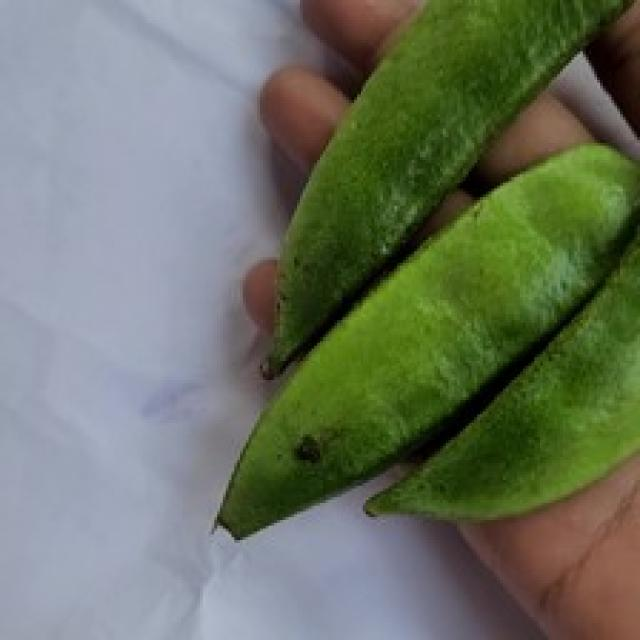Bean: (209, 131, 637, 540), (257, 0, 637, 380)
